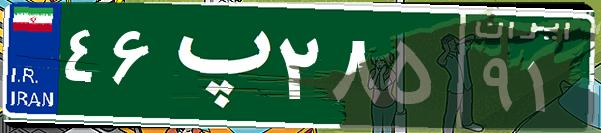1: (525, 38, 570, 115)
2: (273, 28, 330, 110)
4: (57, 26, 110, 107)
5: (385, 28, 445, 110)
6: (110, 28, 158, 105)
8: (330, 28, 385, 110)
9: (475, 38, 525, 113)
پ: (158, 15, 273, 115)
